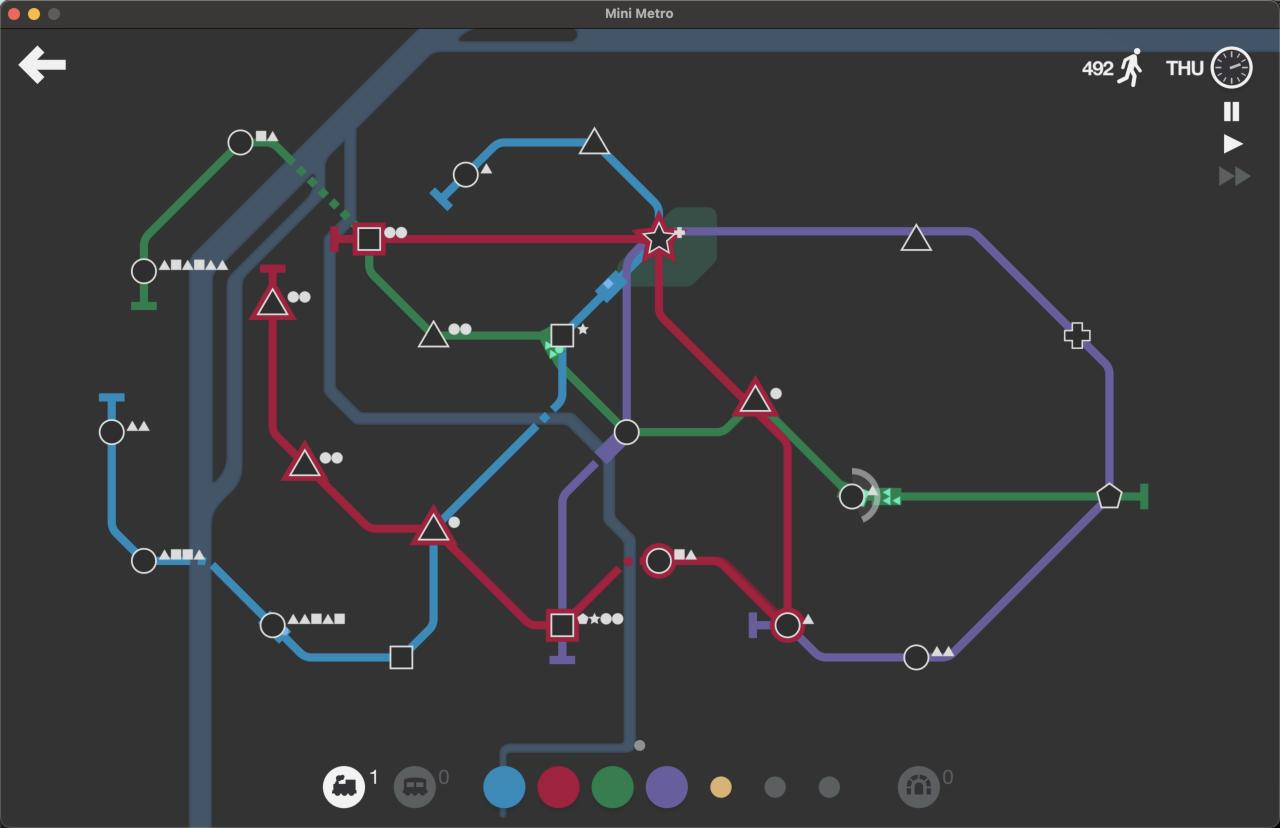CIRCLE: (643, 544, 675, 577), (773, 610, 804, 641), (838, 482, 866, 510), (98, 418, 126, 446), (903, 643, 930, 672), (259, 611, 286, 640), (130, 546, 157, 575), (452, 160, 479, 188), (227, 128, 254, 156), (130, 257, 158, 284), (613, 418, 640, 446)
CROSS: (1063, 322, 1092, 350)
PENTAGON: (1095, 482, 1123, 510)
SQUARE: (547, 609, 578, 641), (356, 224, 384, 254), (549, 322, 575, 349), (389, 644, 414, 671)
STAR: (641, 222, 678, 257)
TRIANGLE: (285, 444, 324, 479), (253, 286, 290, 318), (738, 381, 774, 413), (417, 511, 450, 543), (900, 222, 934, 253), (578, 126, 610, 157), (417, 319, 450, 349)
